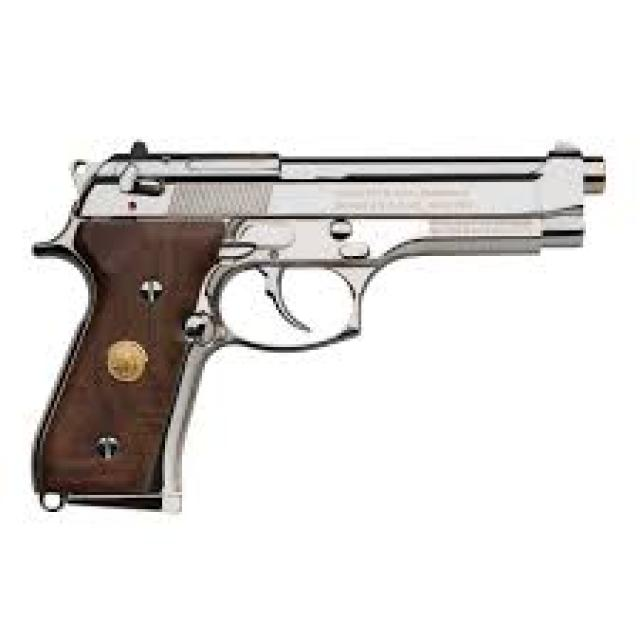pistol: (25, 133, 617, 526)
